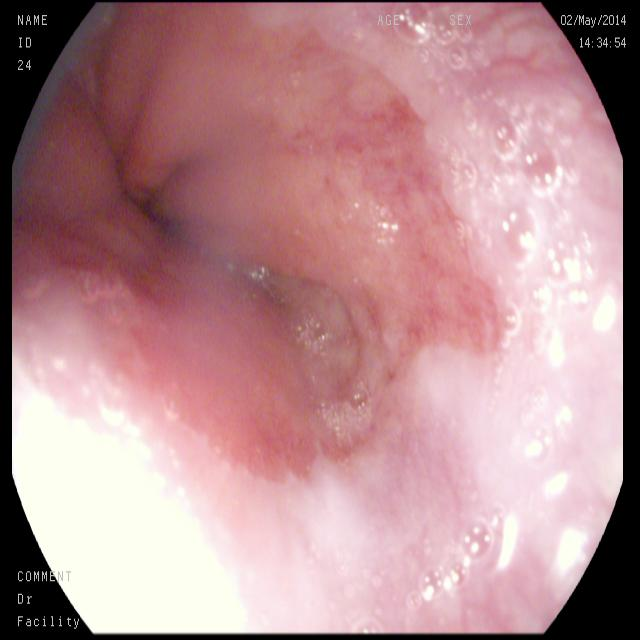esophagitis: (10, 0, 510, 475)
